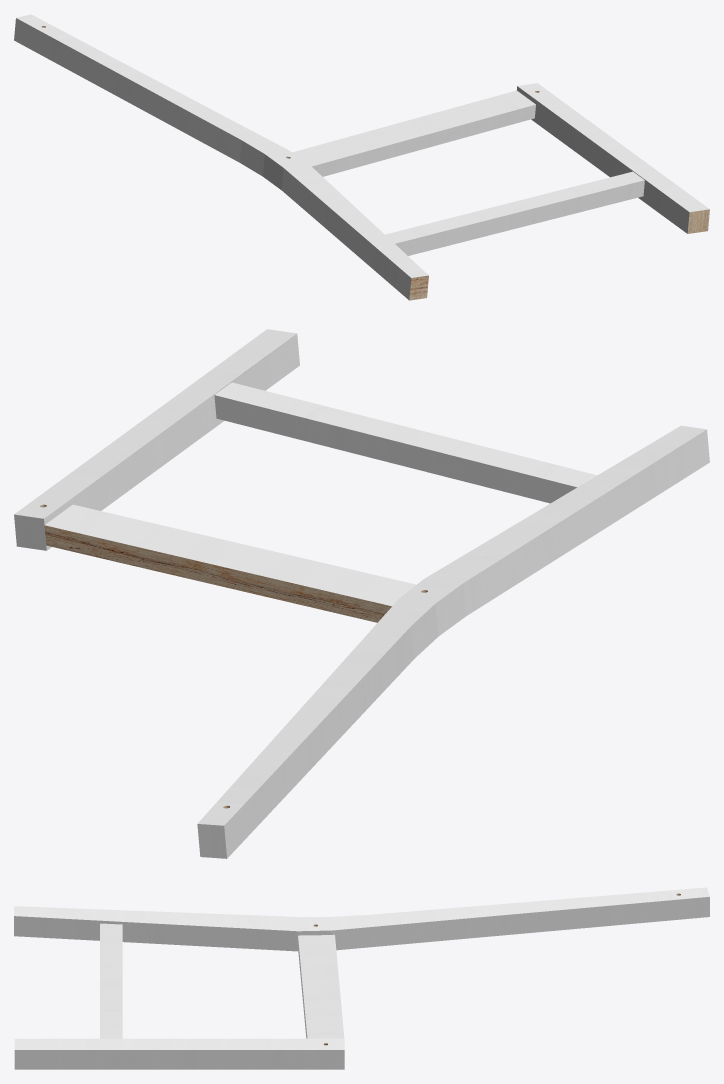
Rendered from Ikea_stefan_side_right.obj.
3 renders of one model, top to bottom at view 1: azimuth 30°, elevation 25°; view 2: azimuth 150°, elevation 25°; view 3: azimuth 270°, elevation 25°, orthographic. The views are drawn at different scales.
Parts seen in each view (by area): view 1: Ikea_Stefan_Side_Left; view 2: Ikea_Stefan_Side_Left; view 3: Ikea_Stefan_Side_Left.
Boxes of the visible parts, x1,y1,x2,y2 form: Ikea_Stefan_Side_Left: [14, 14, 709, 300]; Ikea_Stefan_Side_Left: [14, 329, 709, 858]; Ikea_Stefan_Side_Left: [14, 887, 709, 1069].
Bounding box in the file's own units: 0.4892 × 0.0417 × 0.9215.
